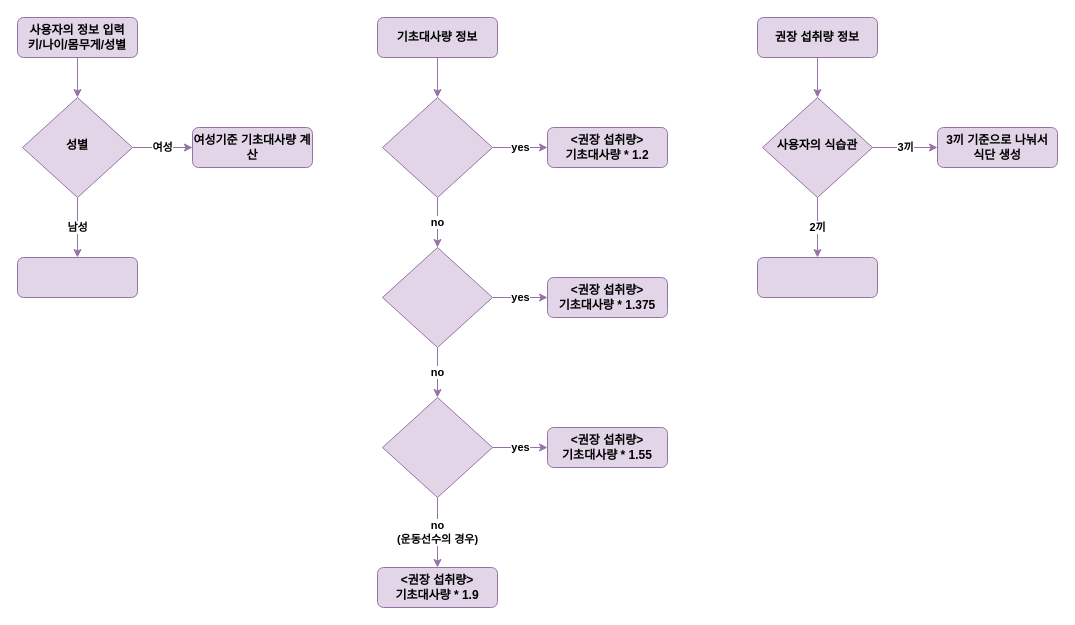
This 1075x625 diagram has some shape labels left out. The shapes that lost their labels are listed below. From the top down, each one's box as (x1, y1, x2, y2) in pixels, then its label:
(382, 96, 492, 198): 주 3회 이하 운동
(16, 256, 138, 298): 남성기준 기초대사량 계산
(382, 246, 492, 348): 주 4회 이상 5회 이하 운동
(756, 256, 878, 298): 2끼 기준으로 나눠서 식단 생성
(382, 396, 492, 498): 주 6회 이상 운동
